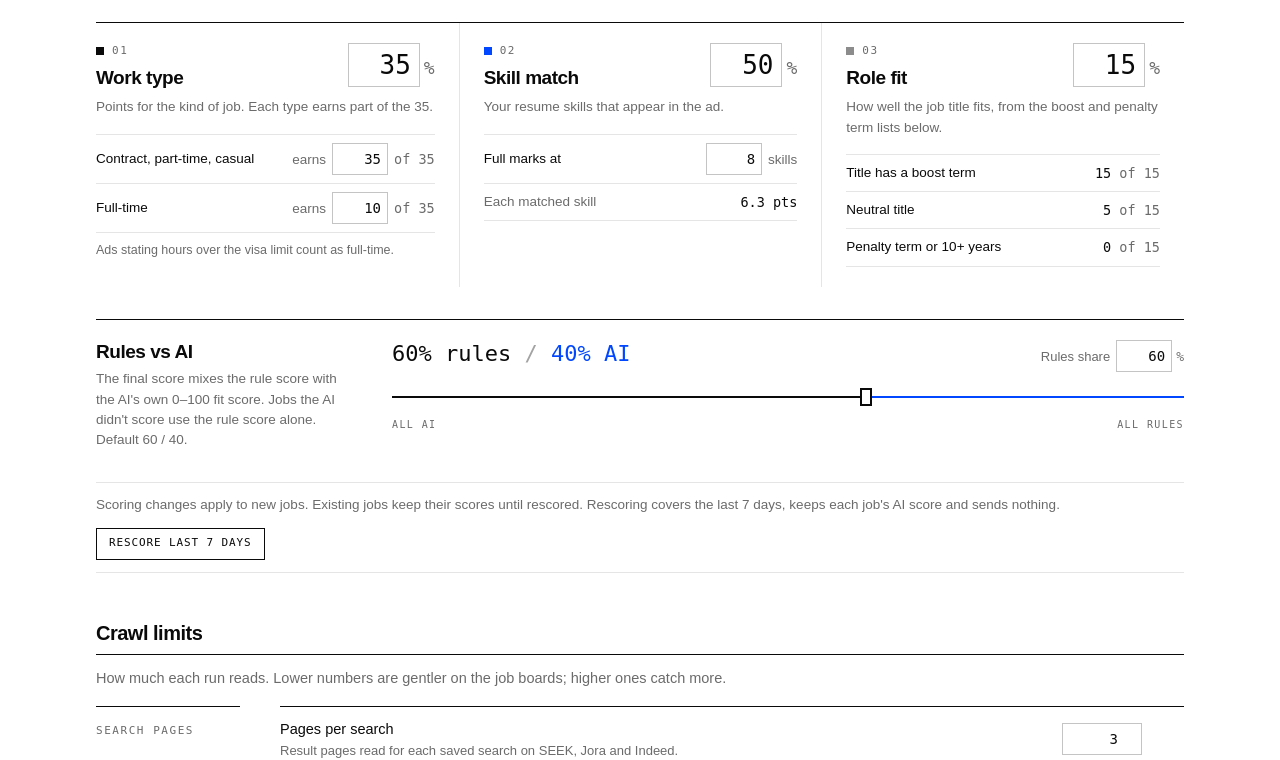
Test case: SettingsPage scoring › saves the rules vs AI blend and offers a rescore afterwards
The width and height of the screenshot is (1280, 760).
Later steps or results of the test are not shown.
(page scrolled)
Expected: the element with test id "blend-label" reads "60% rules / 40% AI", [392,343,630,365]
Set the slider named "Rules vs AI blend" to "75" at point(982, 397), box [392,388,1184,406]
(page scrolled)
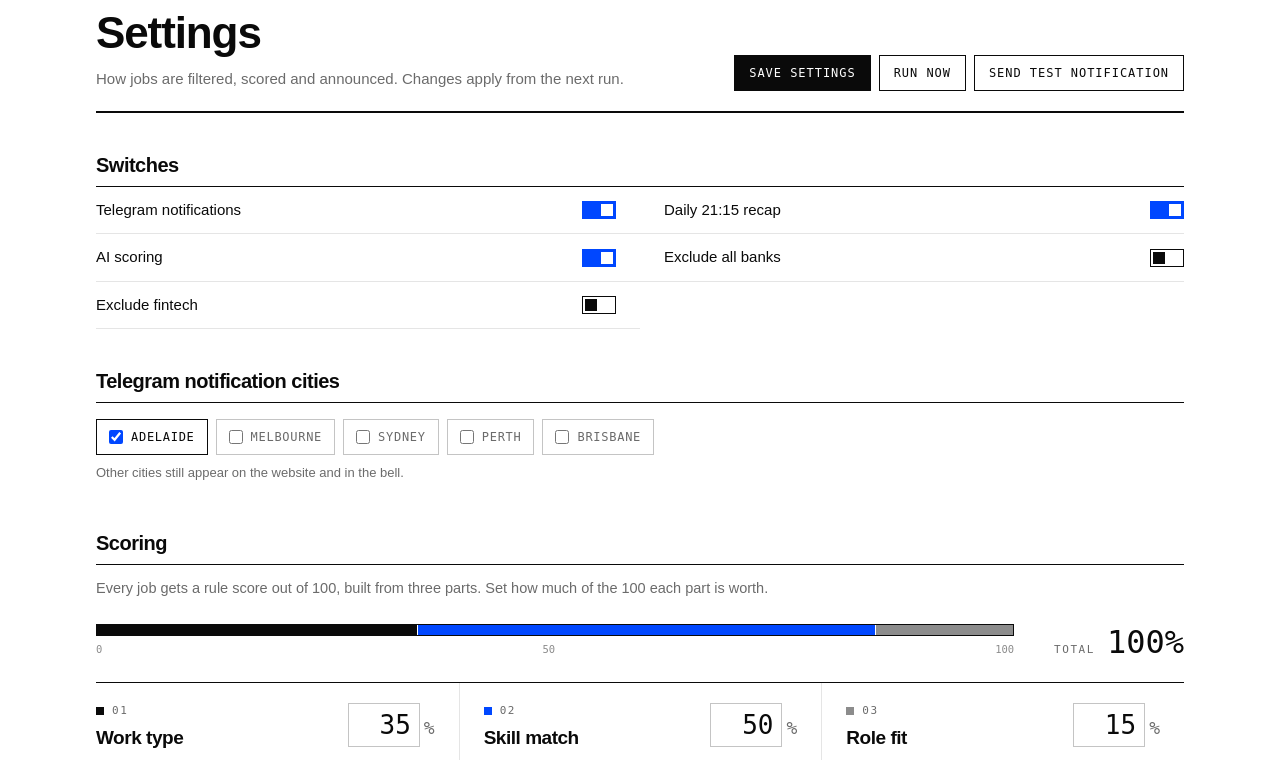
Click the button "Save settings" at point(802, 73), box [734,55,871,91]
(page scrolled)
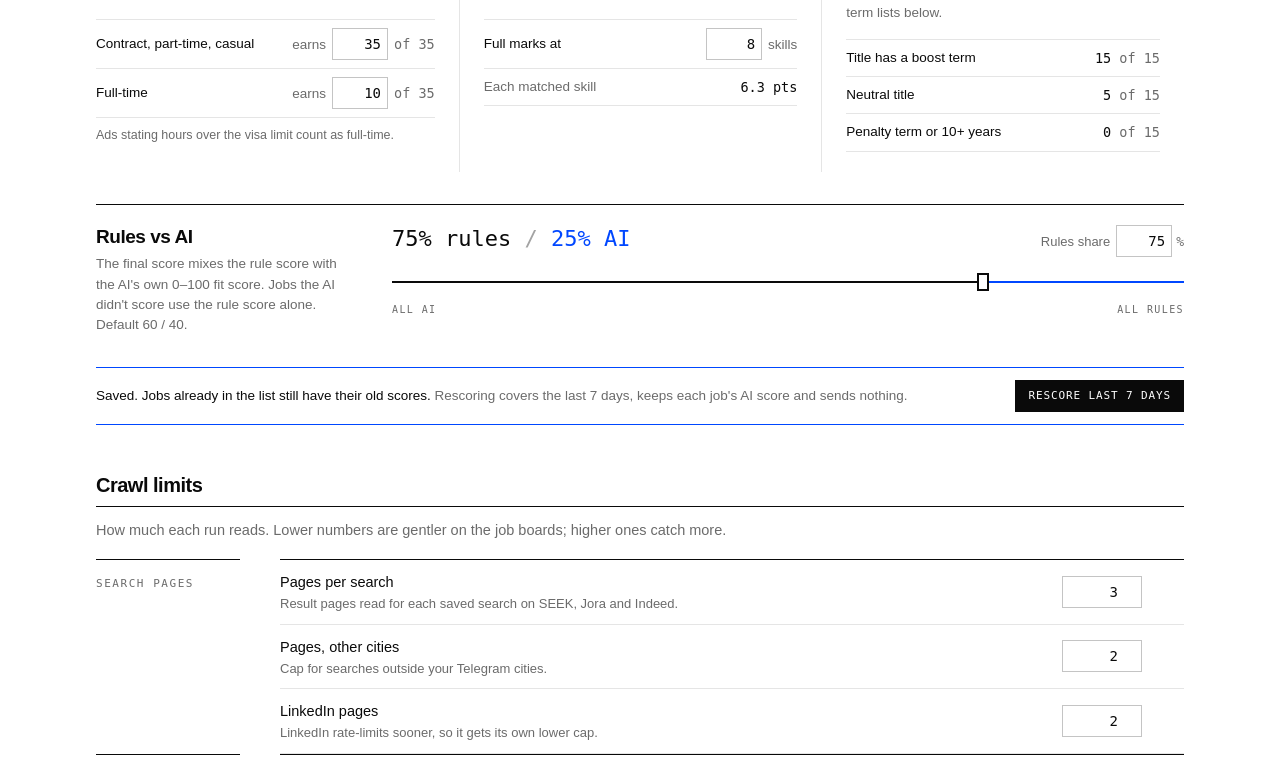
Result: the message shows "still have their old scores" at [96,388,431,403]
Result: the button "Rescore last 7 days" is enabled at [1015,380,1184,412]
